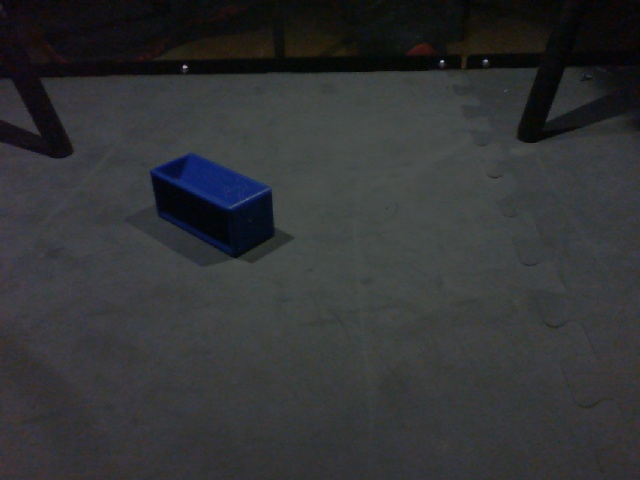BlueSample: (150, 149, 281, 258)
